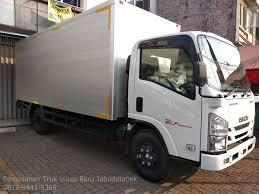truck: (119, 24, 259, 183)
